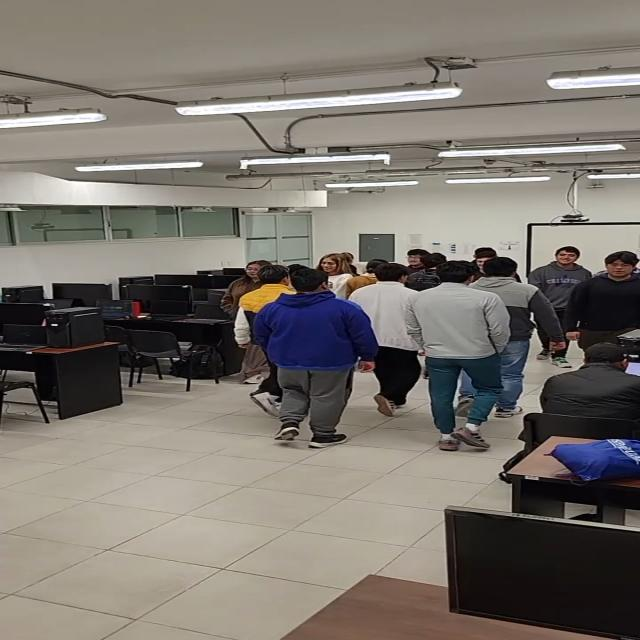Persona: (428, 266, 494, 441), (277, 274, 346, 428), (485, 253, 545, 408), (362, 265, 426, 404), (585, 246, 639, 340), (540, 241, 583, 313), (318, 251, 359, 291), (228, 256, 265, 290)
